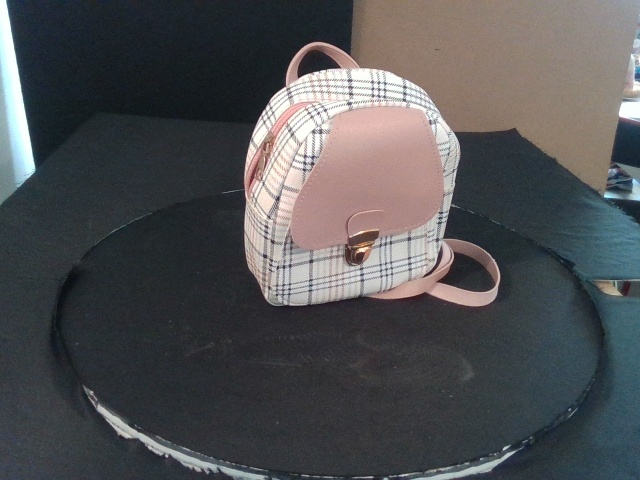bag: (244, 68, 459, 307)
